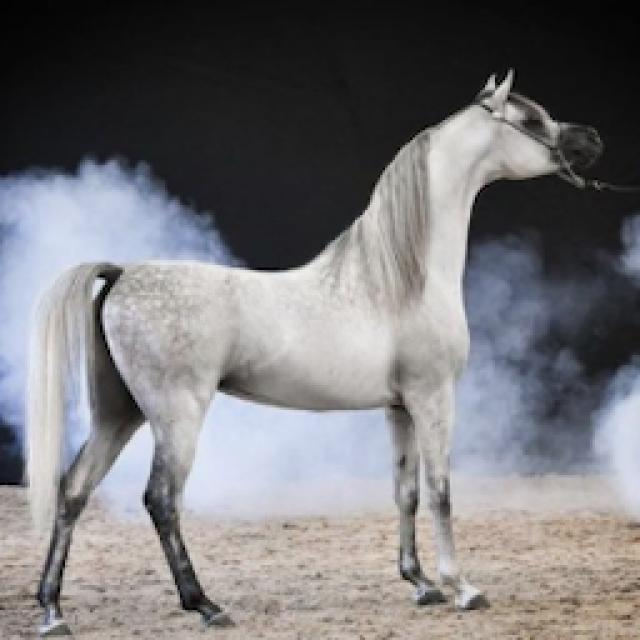Horse: (12, 62, 608, 638)
